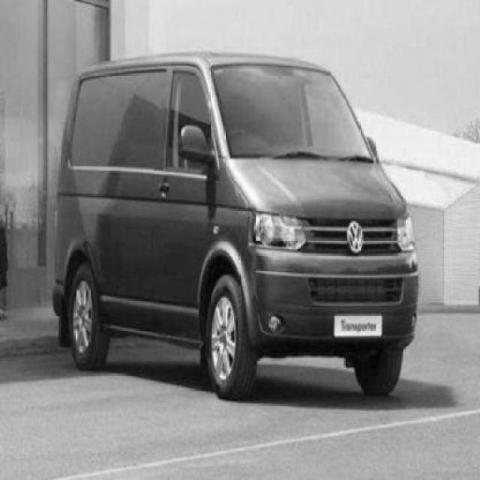van: (59, 55, 417, 398)
